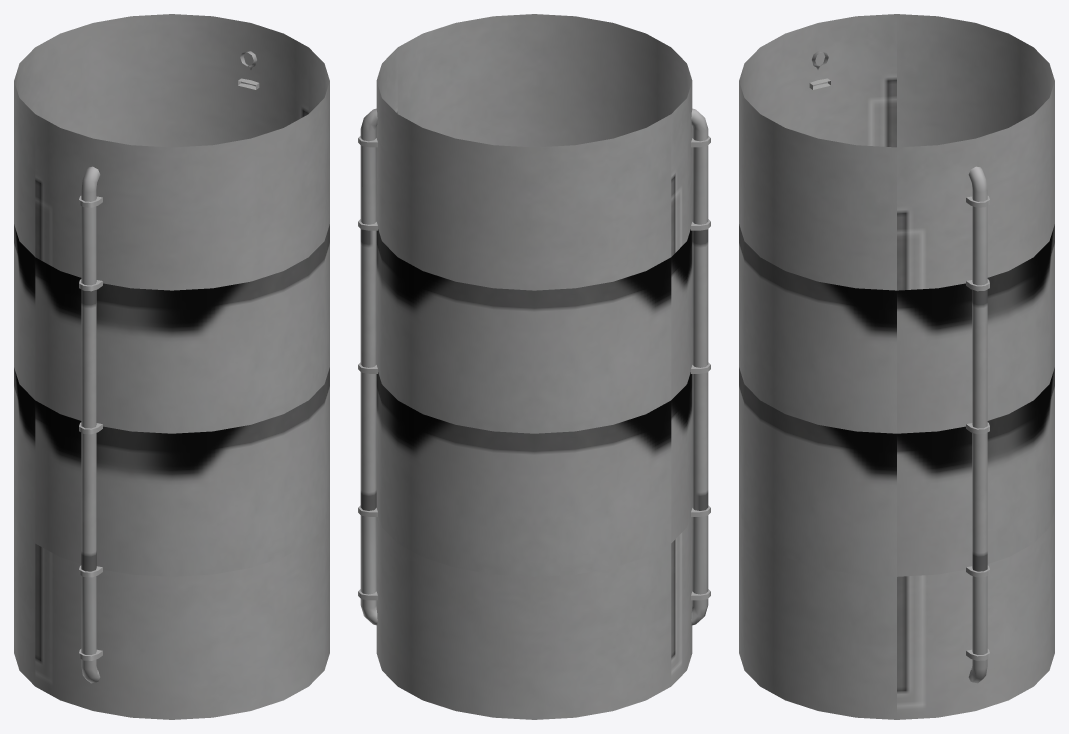
Rendered from us small long.obj.
3 views of the same model, side by side, from view 1: azimuth 30°, elevation 25°; view 2: azimuth 150°, elevation 25°; view 3: azimuth 270°, elevation 25° (orthographic).
Parts seen in each view (by area): view 1: small long; view 2: small long; view 3: small long.
Boxes of the visible parts, box(x1,y1,x2,y2) form: small long: box(14, 14, 329, 719); small long: box(358, 14, 710, 719); small long: box(739, 14, 1054, 719).
Bounding box in the file's own units: 1.5 × 3 × 1.5.
